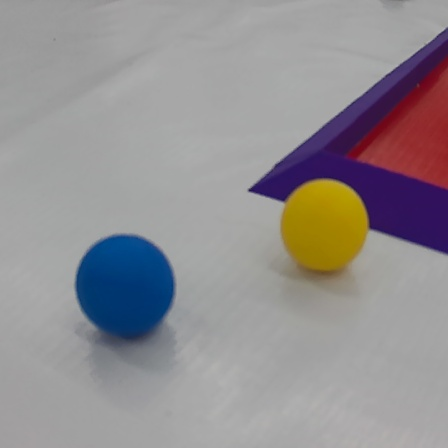blue: (73, 230, 179, 338)
red_aim: (240, 21, 448, 258)
yellow: (278, 176, 372, 275)
